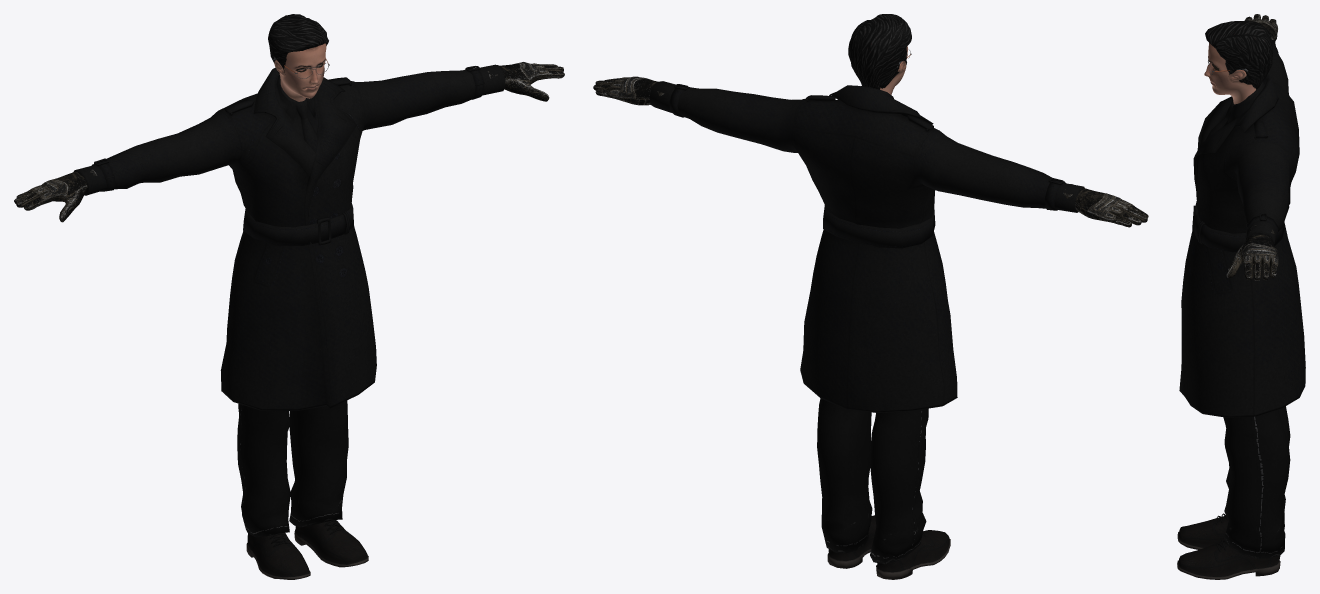
The model's file is Yunus.obj.
3 views of the same model, side by side, from view 1: azimuth 30°, elevation 25°; view 2: azimuth 150°, elevation 25°; view 3: azimuth 270°, elevation 25° (orthographic).
Visible parts, largest first — view 1: Tops, Bottoms, Shoes, Gloves, Body, Hair; view 2: Tops, Bottoms, Hair, Gloves, Shoes; view 3: Tops, Bottoms, Shoes, Hair, Gloves, Body.
Part boxes in pixels (x1,y1,x2,y2): Tops: (73, 64, 505, 410); Bottoms: (237, 400, 348, 537); Shoes: (246, 520, 368, 579); Gloves: (14, 62, 564, 222); Body: (274, 43, 326, 101); Hair: (268, 14, 328, 74); Tops: (649, 81, 1084, 412); Bottoms: (817, 398, 928, 564); Hair: (848, 14, 911, 89); Gloves: (593, 76, 1148, 227); Shoes: (827, 515, 950, 579); Tops: (1179, 31, 1305, 417); Bottoms: (1223, 406, 1290, 558); Shoes: (1177, 513, 1280, 579); Hair: (1205, 20, 1273, 89); Gloves: (1226, 14, 1278, 280); Body: (1204, 43, 1255, 104).
Size of the model in its own units: 194 by 182 by 39.65.
7 materials, 7 textured.
